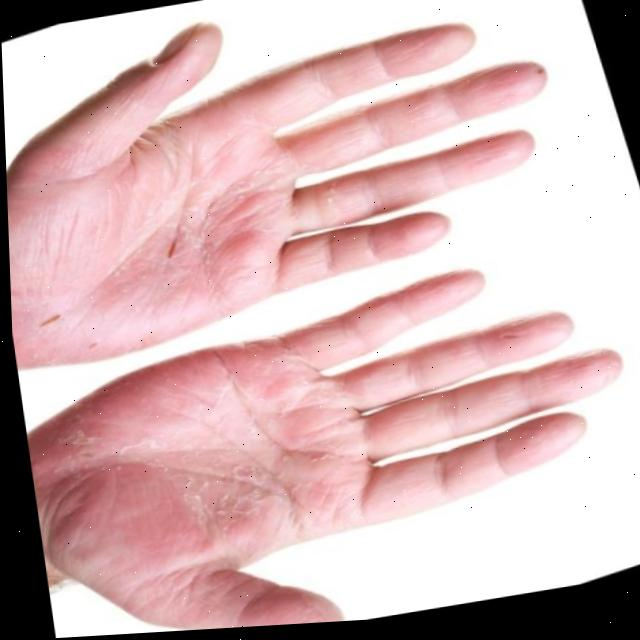Eczema: (187, 431, 360, 551), (142, 180, 236, 298)
